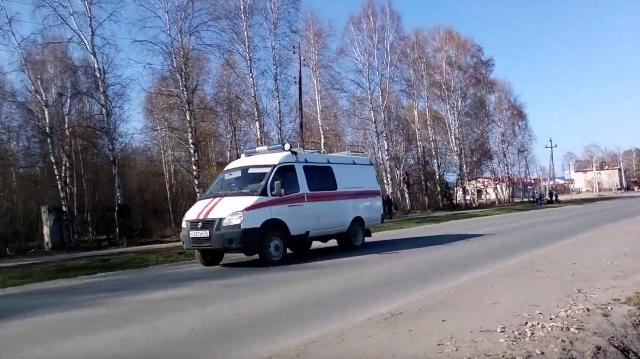ambulance: (180, 144, 384, 268)
